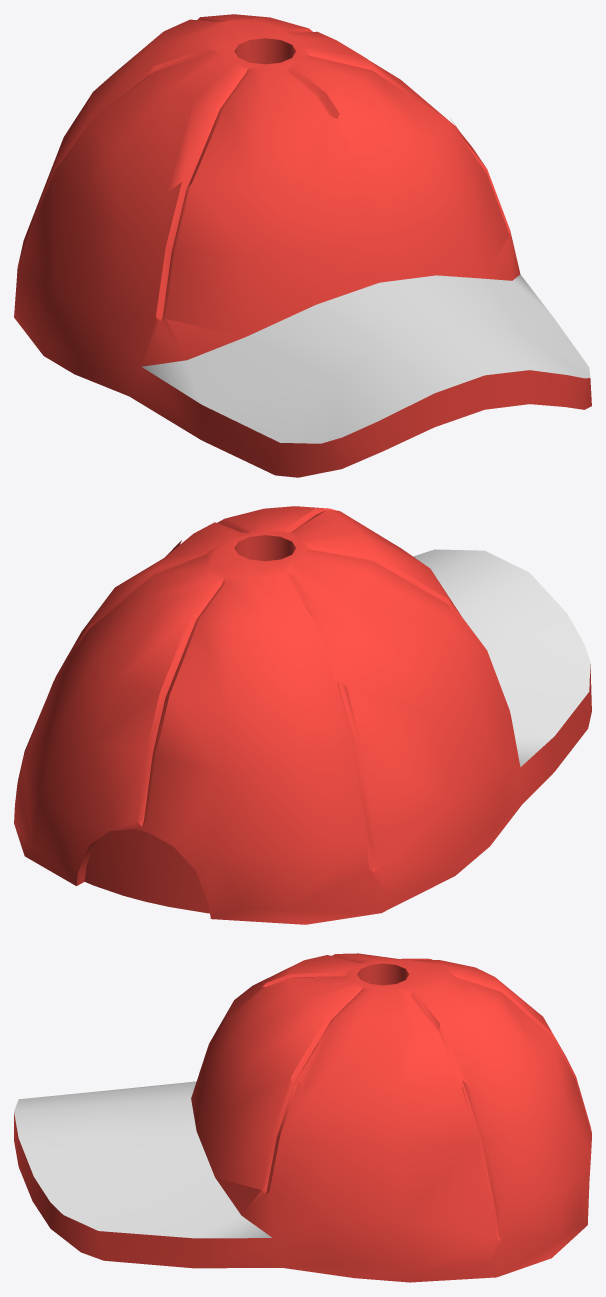
The model's file is Cap_1.fbx.
The picture shows the model from 3 angles, top to bottom: view 1: azimuth 30°, elevation 25°; view 2: azimuth 150°, elevation 25°; view 3: azimuth 270°, elevation 25°; orthographic projection. The views are drawn at different scales.
Visible parts, largest first — view 1: Piece000; view 2: Piece000; view 3: Piece000.
Boxes of the visible parts, <box> form: Piece000: <box>14,14,591,477</box>; Piece000: <box>14,506,591,924</box>; Piece000: <box>14,953,591,1282</box>.
Bounding box in the file's own units: 301 × 187 × 430.
